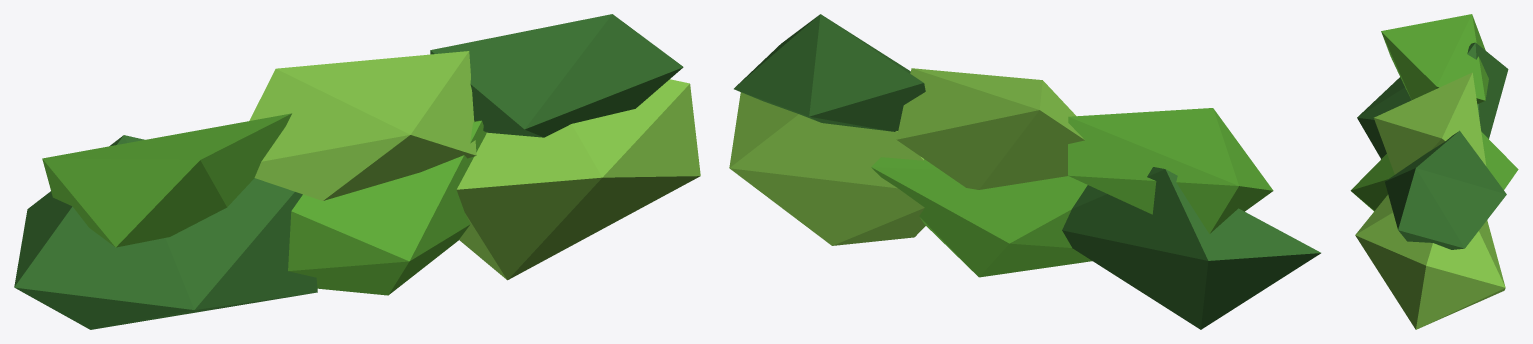
The model's file is hedge_straight_2_lod2.glb.
The picture shows the model from 3 angles, left to right: view 1: azimuth 30°, elevation 25°; view 2: azimuth 150°, elevation 25°; view 3: azimuth 270°, elevation 25°; orthographic projection. The views are drawn at different scales.
Visible parts, largest first — view 1: hedge_straight_2_lod2; view 2: hedge_straight_2_lod2; view 3: hedge_straight_2_lod2.
Part boxes in pixels (x1,y1,x2,y2): hedge_straight_2_lod2: (14,14,700,329); hedge_straight_2_lod2: (729,14,1320,329); hedge_straight_2_lod2: (1350,14,1518,329).
Bounding box in the file's own units: 4.78 × 1.64 × 1.43.
